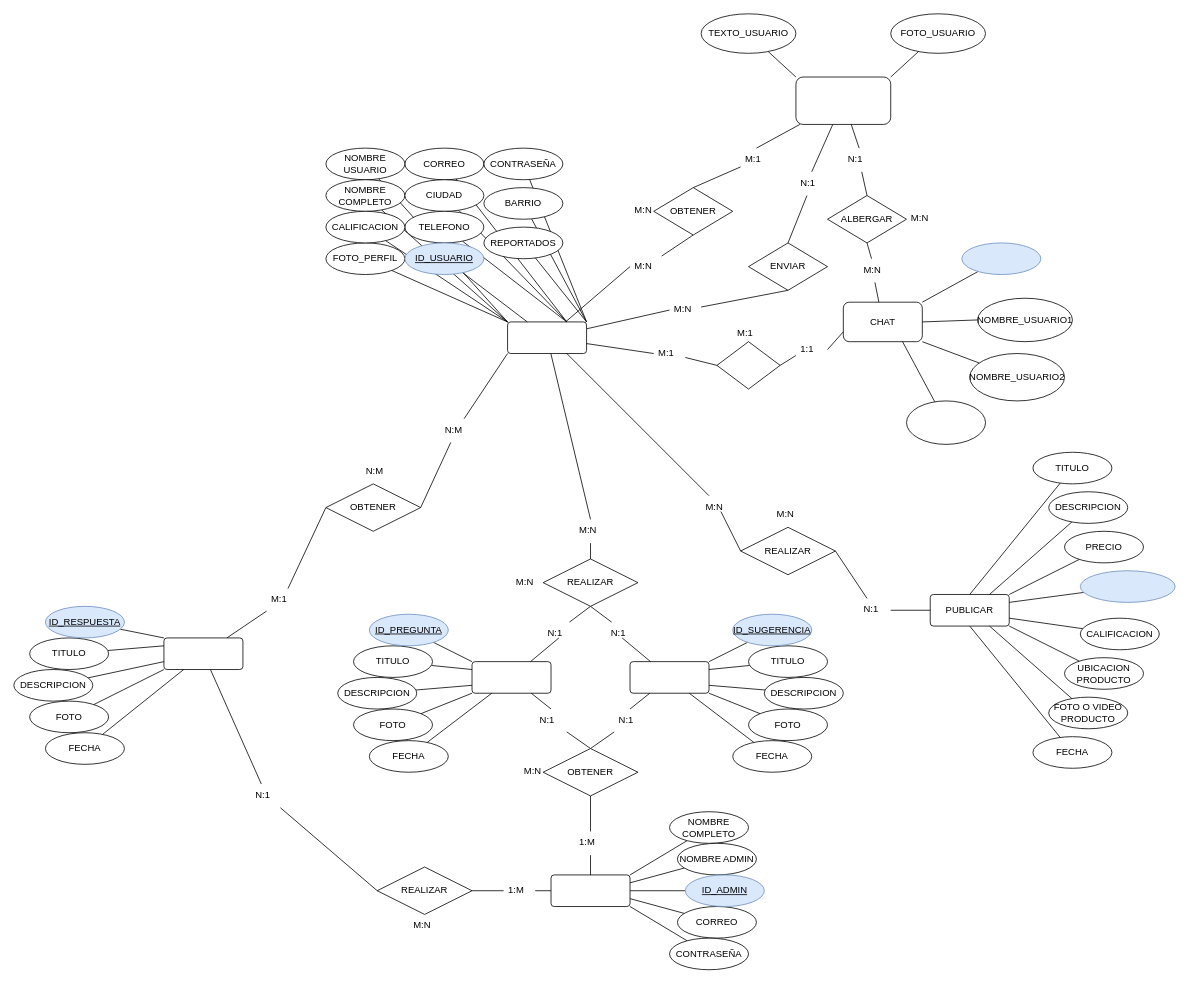
This 1189x984 diagram has some shape labels left out. Each missing label, with the box of its shape:
ADMIN: (550, 874, 630, 907)
CREAR: (716, 341, 780, 389)
ENVIAR PREGUNTAS: (471, 661, 551, 693)
ENVIAR RESPUESTAS: (163, 637, 243, 670)
ENVIAR SUGERENCIAS: (629, 661, 709, 693)
ENVIAR_MENSAJE: (795, 76, 891, 124)
FECHA_CHAT: (906, 400, 986, 444)
ID_CHAT: (961, 242, 1041, 275)
ID_PUBLICACION: (1080, 570, 1175, 602)
USUARIO: (507, 321, 587, 354)
